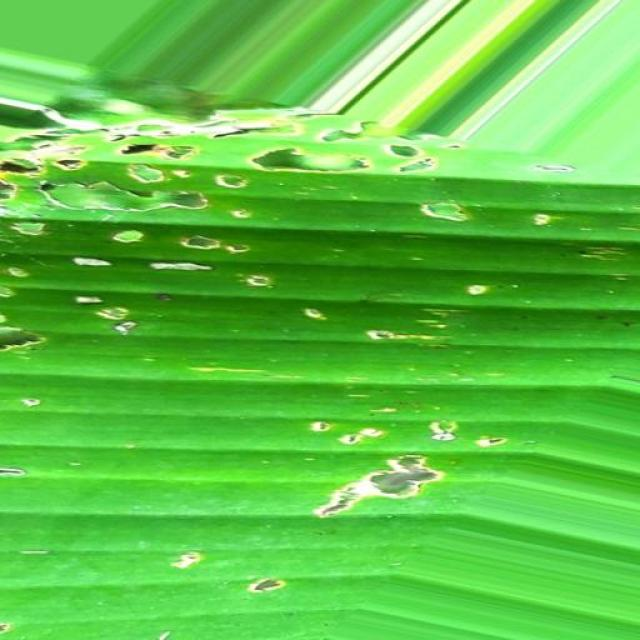Black_rot: (2, 76, 610, 604)
